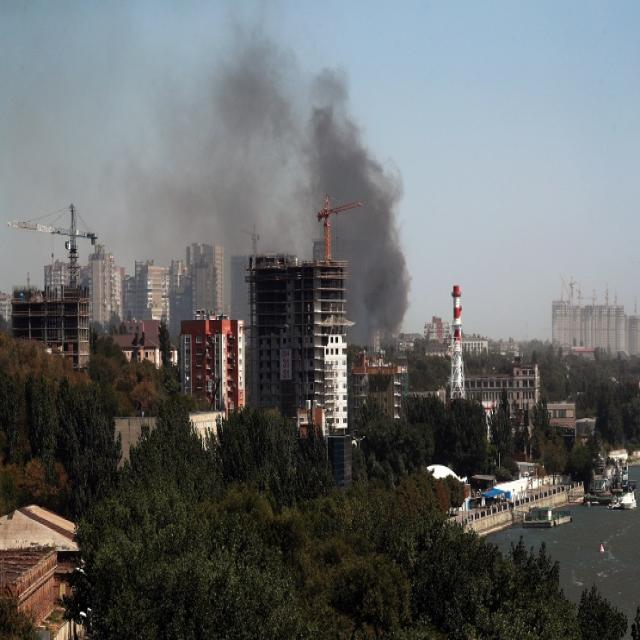smoke: (320, 135, 394, 344)
